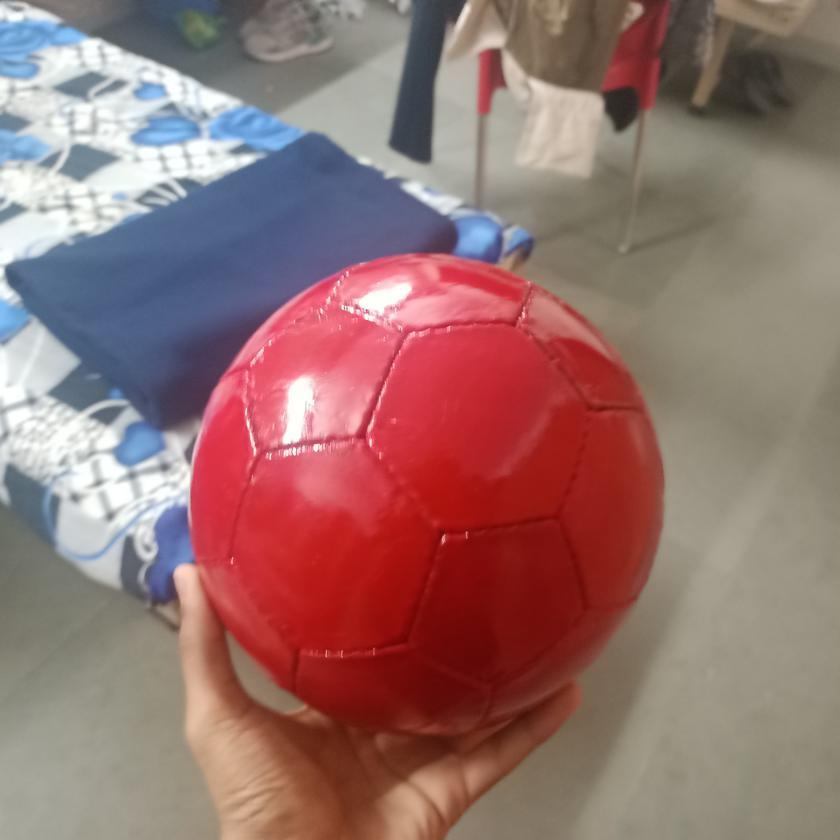Red_Ball: (189, 254, 668, 740)
